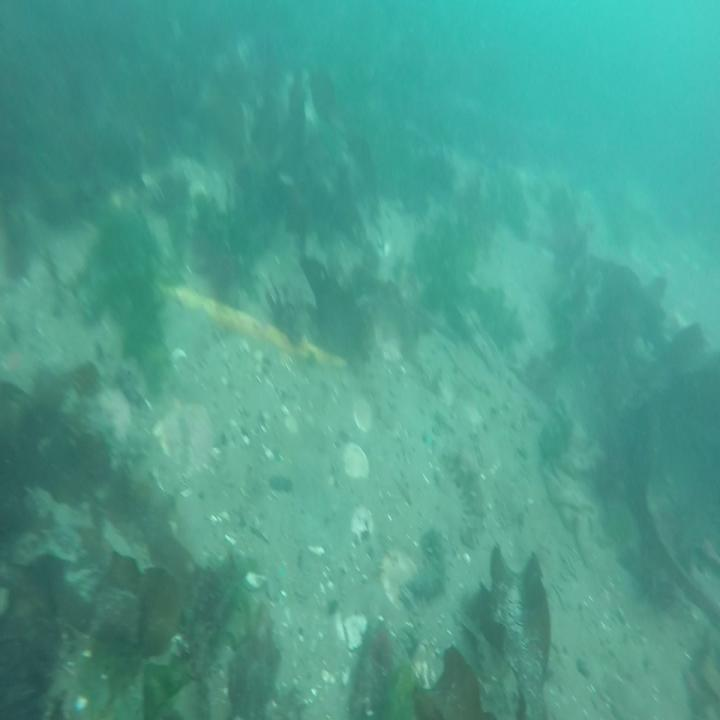holothurian: (446, 453, 484, 549), (402, 526, 447, 607)
scallop: (153, 397, 214, 474), (377, 544, 418, 608), (342, 443, 370, 484), (350, 393, 373, 429)
